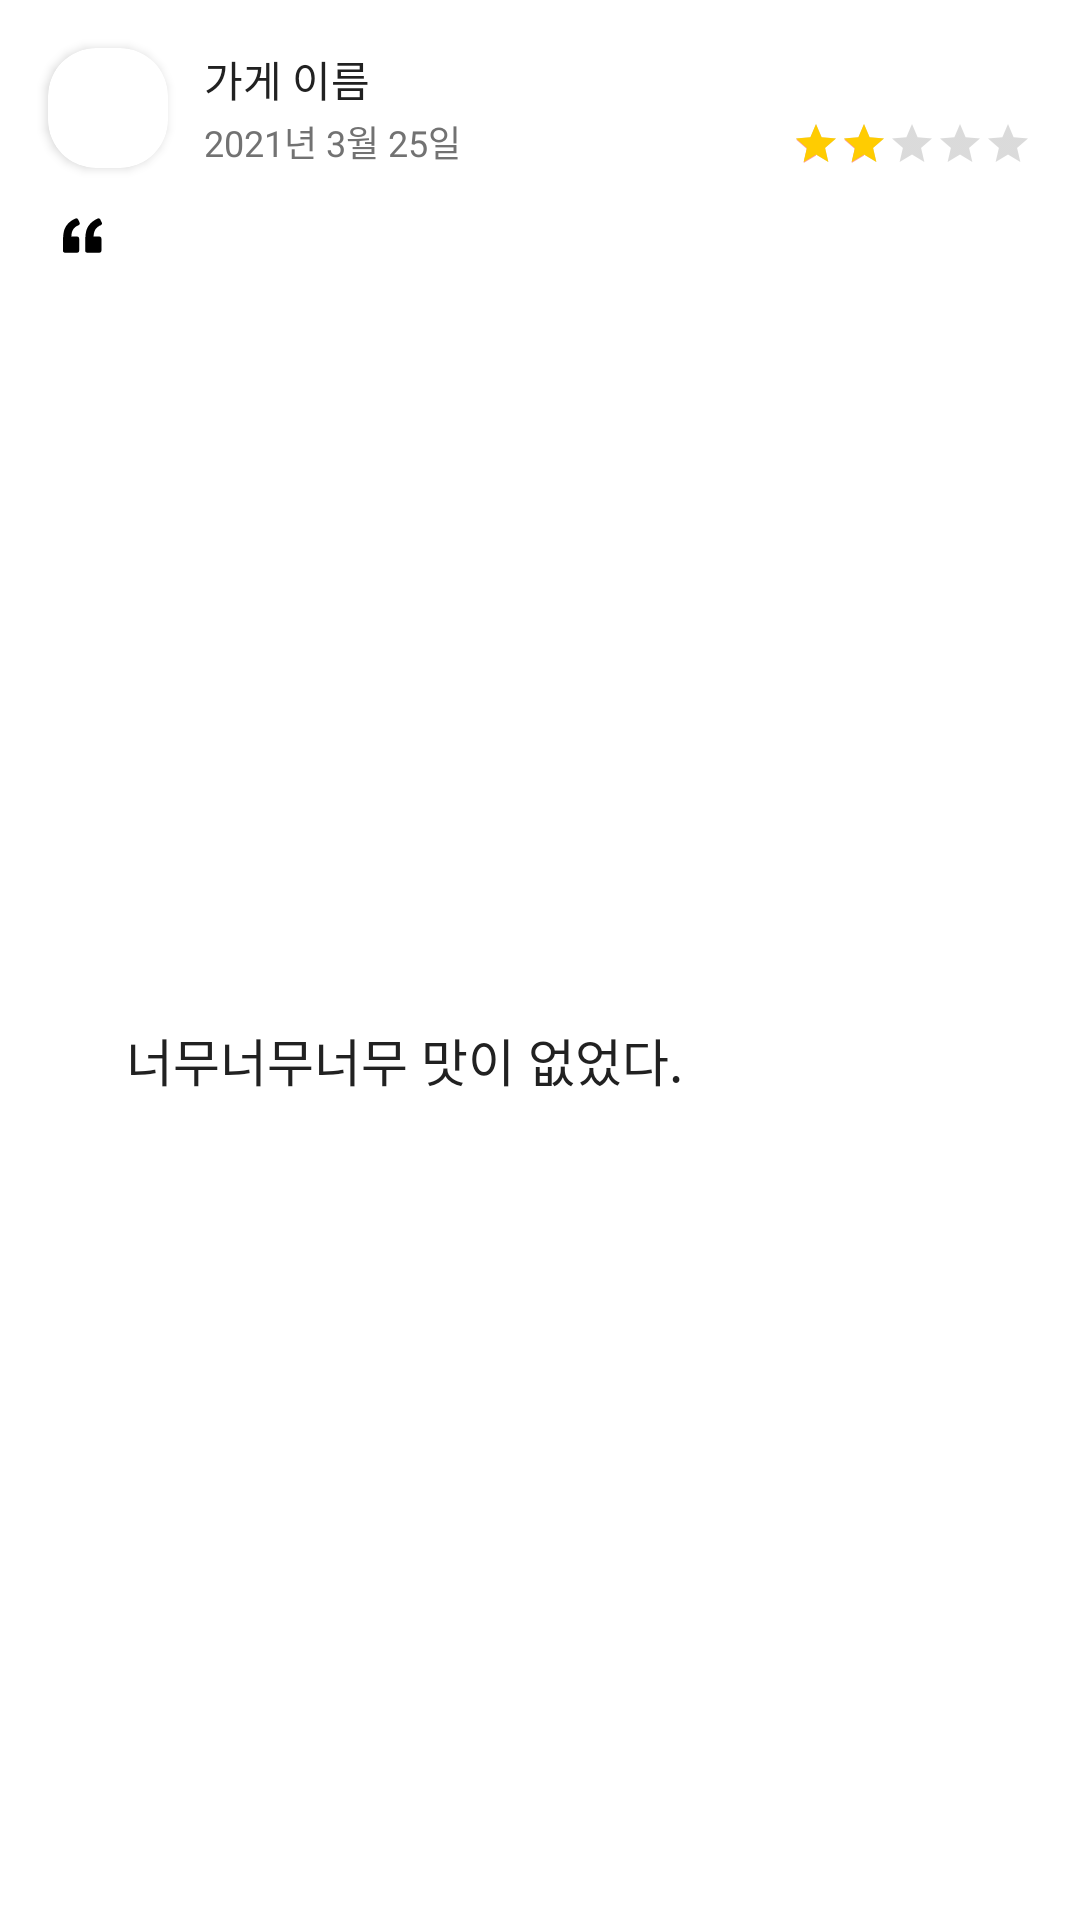

Icon bounding boxes for this 1080 x 1920 phone screenshot, format detection(x1, y1, x2, y2):
left quote: detection(63, 218, 102, 253)
